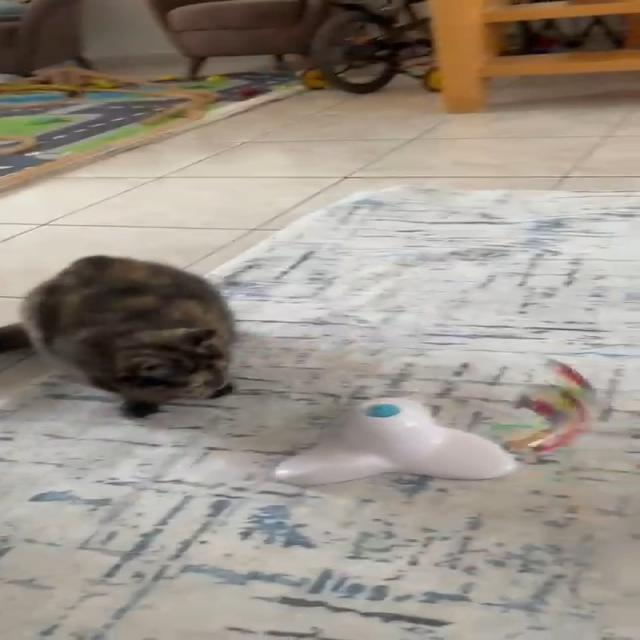authorized: (1, 254, 238, 418)
